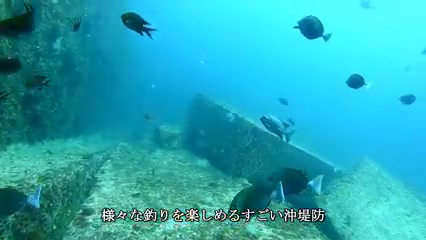mezina: (114, 10, 160, 40)
smallfish: (291, 14, 335, 43), (258, 112, 299, 139), (342, 71, 378, 92)
